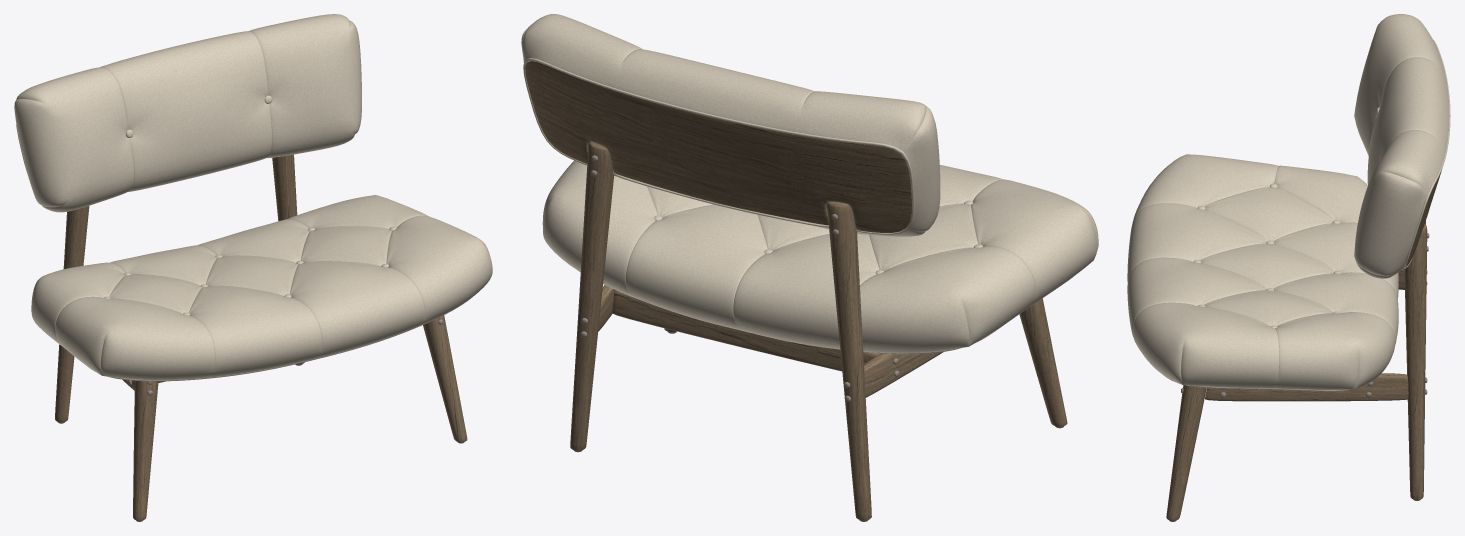
File: lounge-chair.glb
3 renders of one model, left to right at view 1: azimuth 30°, elevation 25°; view 2: azimuth 150°, elevation 25°; view 3: azimuth 270°, elevation 25°, orthographic. The views are drawn at different scales.
Visible parts, largest first — view 1: SheenChair_fabric, SheenChair_wood; view 2: SheenChair_fabric, SheenChair_wood; view 3: SheenChair_fabric, SheenChair_wood.
Boxes of the visible parts, bbox=[...] form: SheenChair_fabric: bbox=[14, 14, 492, 381]; SheenChair_wood: bbox=[55, 154, 467, 520]; SheenChair_fabric: bbox=[521, 14, 1098, 354]; SheenChair_wood: bbox=[525, 61, 1067, 520]; SheenChair_fabric: bbox=[1127, 14, 1450, 391]; SheenChair_wood: bbox=[1166, 170, 1441, 520].
Size of the model in its own units: 0.8266 by 0.6862 by 0.5703.
4 materials, 3 textured.
